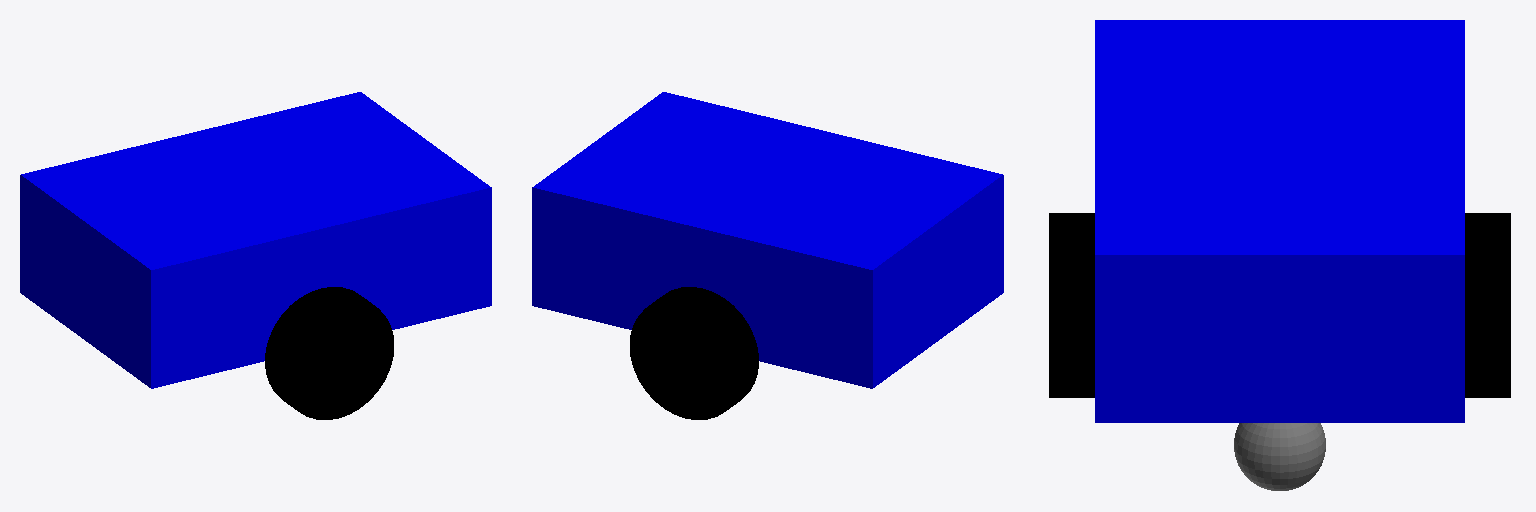
robot.urdf — differential_robot:
<?xml version="1.0"?>
<robot name="differential_robot">

  <!-- Base Link - Main body of the robot -->
  <link name="base_link">
    <visual>
      <geometry>
        <box size="0.6 0.4 0.2"/>
      </geometry>
      <material name="blue">
        <color rgba="0.0 0.0 1.0 1.0"/>
      </material>
    </visual>
    <collision>
      <geometry>
        <box size="0.6 0.4 0.2"/>
      </geometry>
    </collision>
    <inertial>
      <mass value="10.0"/>
      <inertia ixx="0.4" ixy="0.0" ixz="0.0" iyy="0.6" iyz="0.0" izz="0.8"/>
    </inertial>
  </link>

  <!-- Left Drive Wheel -->
  <link name="left_wheel">
    <visual>
      <geometry>
        <cylinder radius="0.1" length="0.05"/>
      </geometry>
      <material name="black">
        <color rgba="0.0 0.0 0.0 1.0"/>
      </material>
    </visual>
    <collision>
      <geometry>
        <cylinder radius="0.1" length="0.05"/>
      </geometry>
    </collision>
    <inertial>
      <mass value="1.0"/>
      <inertia ixx="0.01" ixy="0.0" ixz="0.0" iyy="0.01" iyz="0.0" izz="0.005"/>
    </inertial>
  </link>

  <!-- Right Drive Wheel -->
  <link name="right_wheel">
    <visual>
      <geometry>
        <cylinder radius="0.1" length="0.05"/>
      </geometry>
      <material name="black">
        <color rgba="0.0 0.0 0.0 1.0"/>
      </material>
    </visual>
    <collision>
      <geometry>
        <cylinder radius="0.1" length="0.05"/>
      </geometry>
    </collision>
    <inertial>
      <mass value="1.0"/>
      <inertia ixx="0.01" ixy="0.0" ixz="0.0" iyy="0.01" iyz="0.0" izz="0.005"/>
    </inertial>
  </link>

  <!-- Caster Wheel (Free Wheel) -->
  <link name="caster_wheel">
    <visual>
      <geometry>
        <sphere radius="0.05"/>
      </geometry>
      <material name="gray">
        <color rgba="0.5 0.5 0.5 1.0"/>
      </material>
    </visual>
    <collision>
      <geometry>
        <sphere radius="0.05"/>
      </geometry>
    </collision>
    <inertial>
      <mass value="0.5"/>
      <inertia ixx="0.001" ixy="0.0" ixz="0.0" iyy="0.001" iyz="0.0" izz="0.001"/>
    </inertial>
  </link>

  <!-- Left Wheel Joint - Continuous joint for drive wheel -->
  <joint name="left_wheel_joint" type="continuous">
    <parent link="base_link"/>
    <child link="left_wheel"/>
    <origin xyz="0.0 0.225 -0.1" rpy="-1.5708 0 0"/>
    <axis xyz="0 0 1"/>
  </joint>

  <!-- Right Wheel Joint - Continuous joint for drive wheel -->
  <joint name="right_wheel_joint" type="continuous">
    <parent link="base_link"/>
    <child link="right_wheel"/>
    <origin xyz="0.0 -0.225 -0.1" rpy="-1.5708 0 0"/>
    <axis xyz="0 0 1"/>
  </joint>

  <!-- Caster Wheel Joint - Fixed joint for free wheel -->
  <joint name="caster_wheel_joint" type="fixed">
    <parent link="base_link"/>
    <child link="caster_wheel"/>
    <origin xyz="0.25 0.0 -0.15" rpy="0 0 0"/>
  </joint>

</robot>

--- Render facts (derived) ---
3 views of the same robot in one strip: view 1: azimuth 30°, elevation 25°; view 2: azimuth 150°, elevation 25°; view 3: azimuth 270°, elevation 25° (orthographic).
Robot: differential_robot — 4 links, 3 joints (2 continuous, 1 fixed); root link base_link; default pose: every joint at zero.
Visible links, largest first — view 1: base_link, right_wheel; view 2: base_link, left_wheel; view 3: base_link, left_wheel, right_wheel, caster_wheel.
Boxes of the visible links, box(x1,y1,x2,y2) form: base_link: box(20, 92, 491, 388); right_wheel: box(265, 287, 393, 419); base_link: box(532, 92, 1003, 388); left_wheel: box(630, 287, 758, 419); base_link: box(1095, 20, 1464, 422); left_wheel: box(1465, 213, 1510, 397); right_wheel: box(1049, 213, 1094, 397); caster_wheel: box(1234, 423, 1325, 490).
Bounding box of the posed robot: 0.6 × 0.5 × 0.3 m (x, y, z).
Geometry: primitives only (box / cylinder / sphere), no mesh files.
